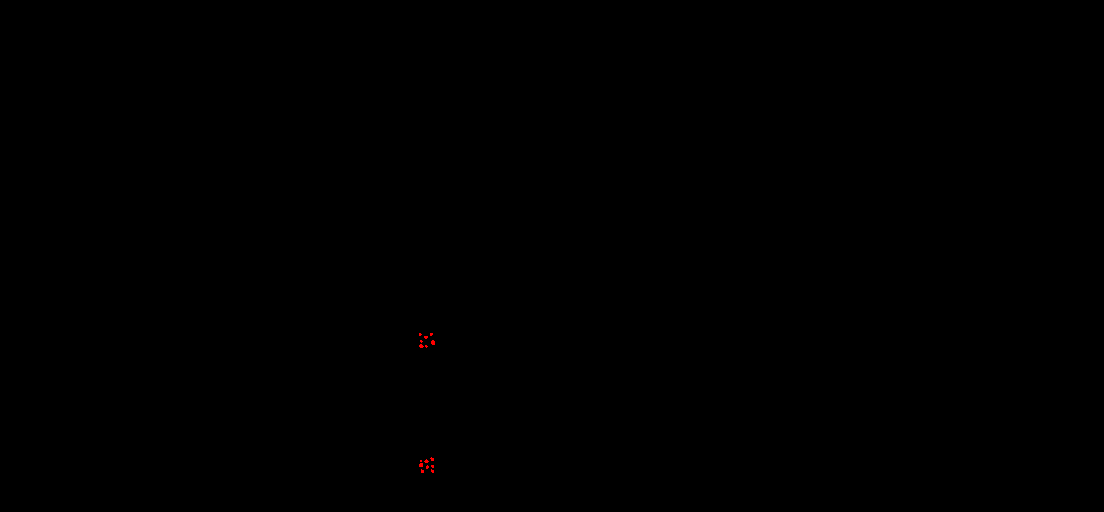Target: (431, 340, 435, 345), (419, 344, 424, 348), (424, 459, 429, 463), (430, 457, 434, 461), (419, 463, 423, 467), (424, 336, 428, 339), (426, 465, 429, 469), (421, 469, 424, 473), (431, 469, 434, 473), (419, 333, 422, 336), (430, 333, 433, 336), (420, 340, 423, 343), (425, 345, 428, 348), (431, 465, 434, 468), (420, 460, 422, 462)
